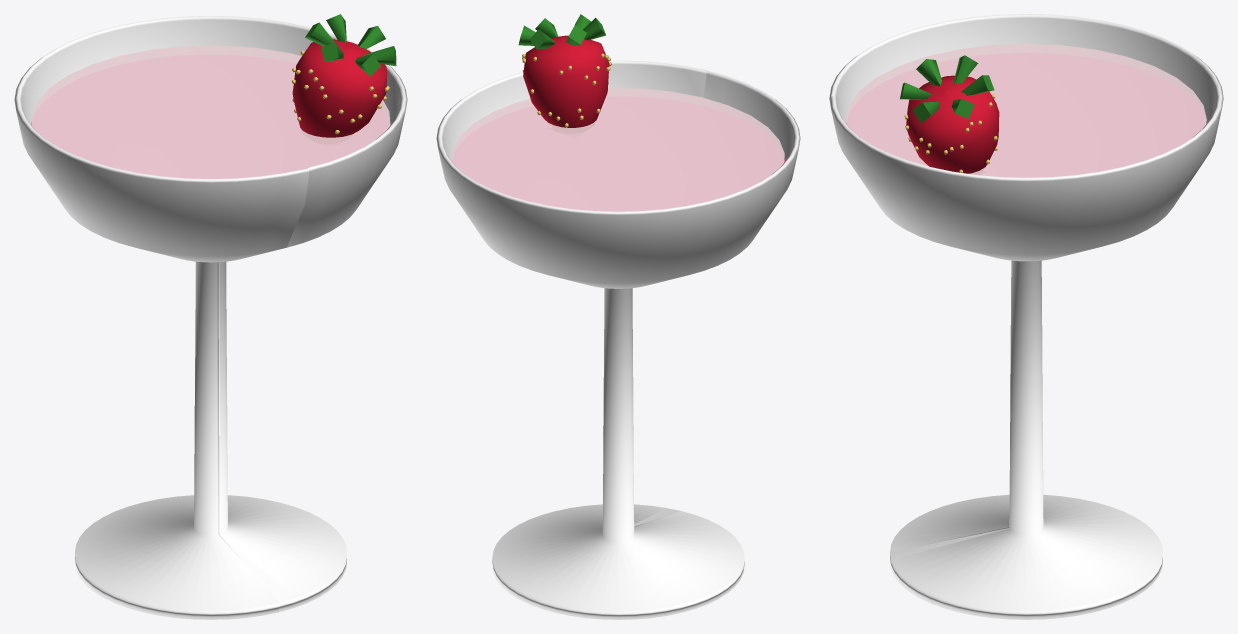
The model's file is mocktaildau.glb.
The picture shows the model from 3 angles, left to right: view 1: azimuth 30°, elevation 25°; view 2: azimuth 150°, elevation 25°; view 3: azimuth 270°, elevation 25°; orthographic projection. The views are drawn at different scales.
Parts seen in each view (by area): view 1: glass, foam, garnish (×2); view 2: glass, foam, garnish (×2); view 3: glass, foam, garnish (×2).
Boxes of the visible parts, x1,y1,x2,y2 form: glass: [14, 15, 407, 619]; foam: [31, 45, 390, 178]; garnish (×2): [292, 14, 396, 137]; glass: [436, 60, 800, 619]; foam: [452, 88, 784, 211]; garnish (×2): [518, 14, 609, 127]; glass: [829, 14, 1223, 619]; foam: [846, 43, 1206, 177]; garnish (×2): [900, 55, 999, 173].
Bounding box in the file's own units: 0.104 × 0.1586 × 0.104.
